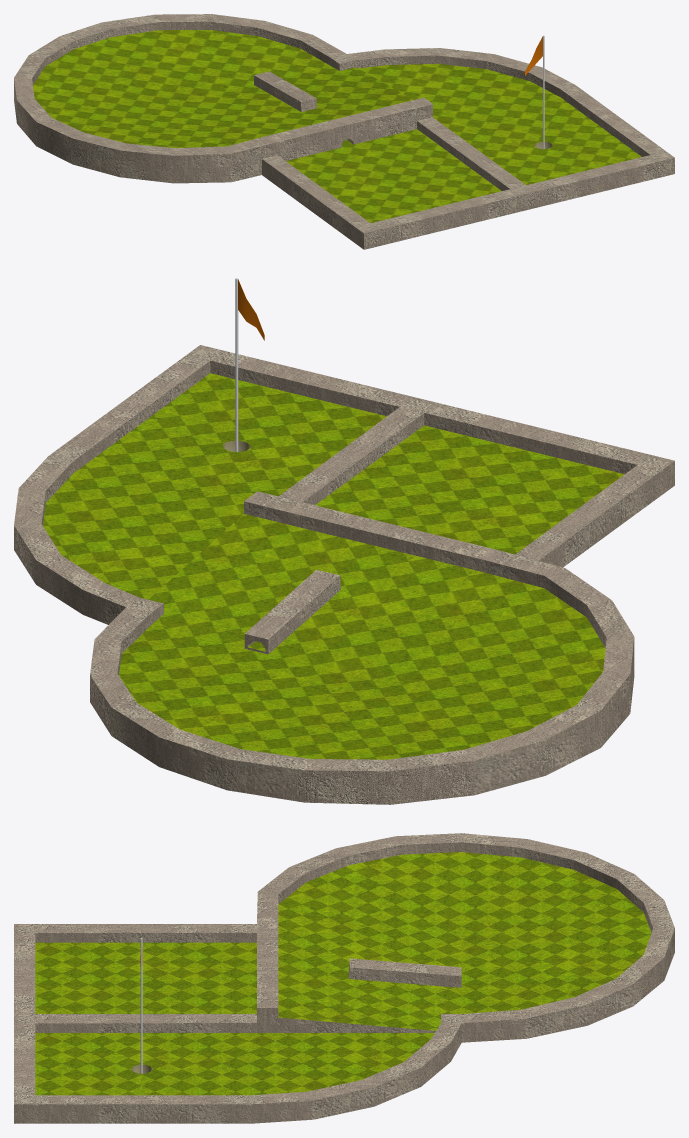
Rendered from course4_hole5.fbx.
3 views of the same model, one above another, from view 1: azimuth 30°, elevation 25°; view 2: azimuth 150°, elevation 25°; view 3: azimuth 270°, elevation 25° (orthographic). The views are drawn at different scales.
Visible parts, largest first — view 1: course4_hole5_ground, course4_hole5_walls, course4_hole5_flag; view 2: course4_hole5_ground, course4_hole5_walls, course4_hole5_flag; view 3: course4_hole5_ground, course4_hole5_walls.
Part boxes in pixels (x1,y1,x2,y2): course4_hole5_ground: (33,30,641,223); course4_hole5_walls: (14,14,674,249); course4_hole5_flag: (524,35,544,149); course4_hole5_ground: (43,373,624,759); course4_hole5_walls: (14,345,674,804); course4_hole5_flag: (235,278,264,451); course4_hole5_ground: (35,852,651,1095); course4_hole5_walls: (14,833,674,1123).
Bounding box in the file's own units: 290 × 75.04 × 310.
